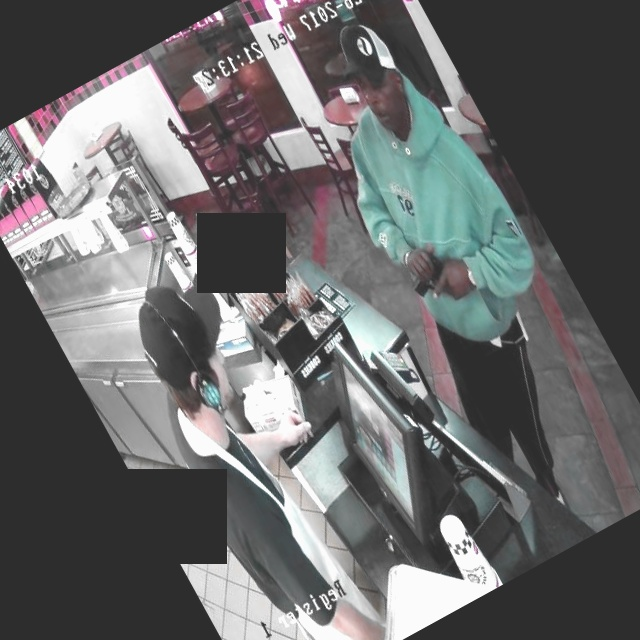gun: (391, 233, 465, 309)
